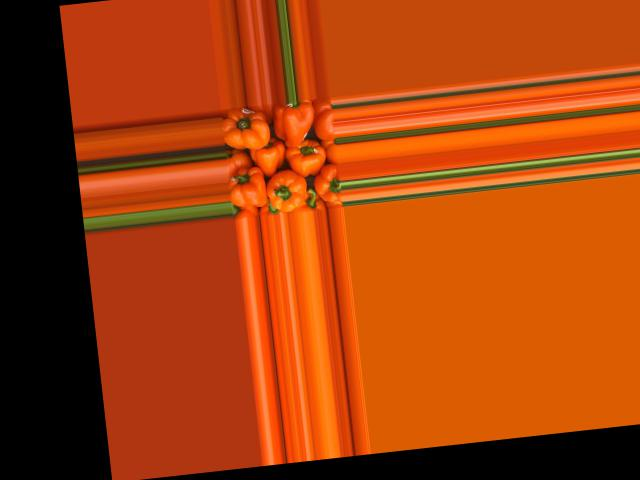bell_pepper: (311, 96, 334, 142)
